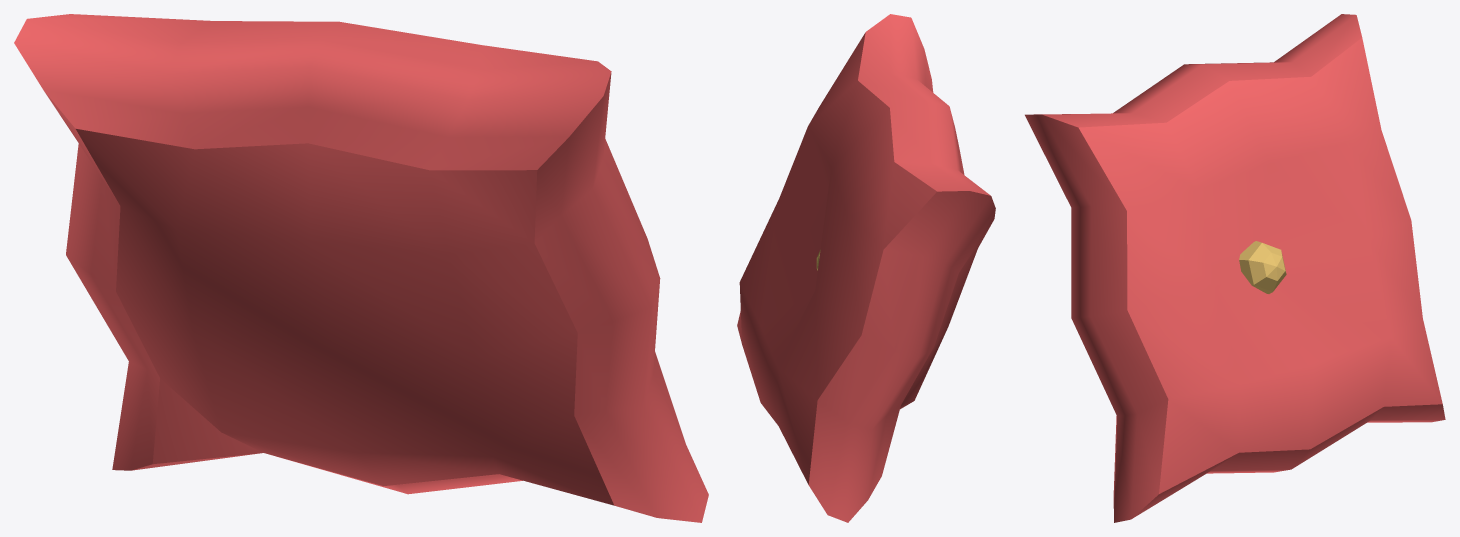
The model's file is Cushion_Mesh.fbx.
3 views of the same model, side by side, from view 1: azimuth 30°, elevation 25°; view 2: azimuth 150°, elevation 25°; view 3: azimuth 270°, elevation 25° (orthographic). The views are drawn at different scales.
Parts seen in each view (by area): view 1: pCube49; view 2: pCube49; view 3: pCube49.
Boxes of the visible parts, x1,y1,x2,y2 form: pCube49: [14, 14, 708, 522]; pCube49: [737, 14, 995, 522]; pCube49: [1025, 14, 1445, 522].
Bounding box in the file's own units: 9.21 × 9 × 9.03.
